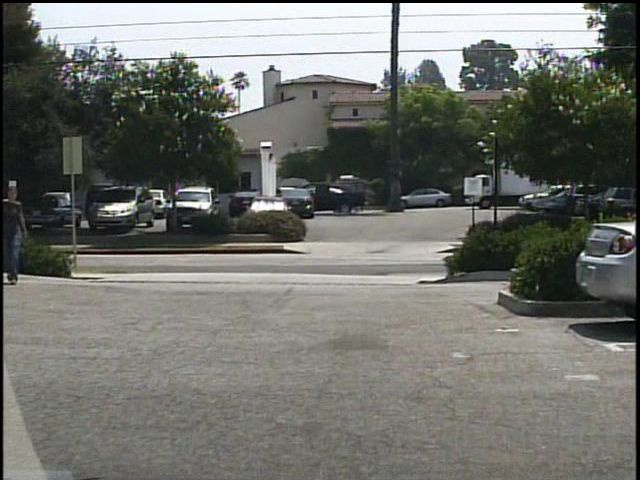person: (7, 185, 38, 286)
